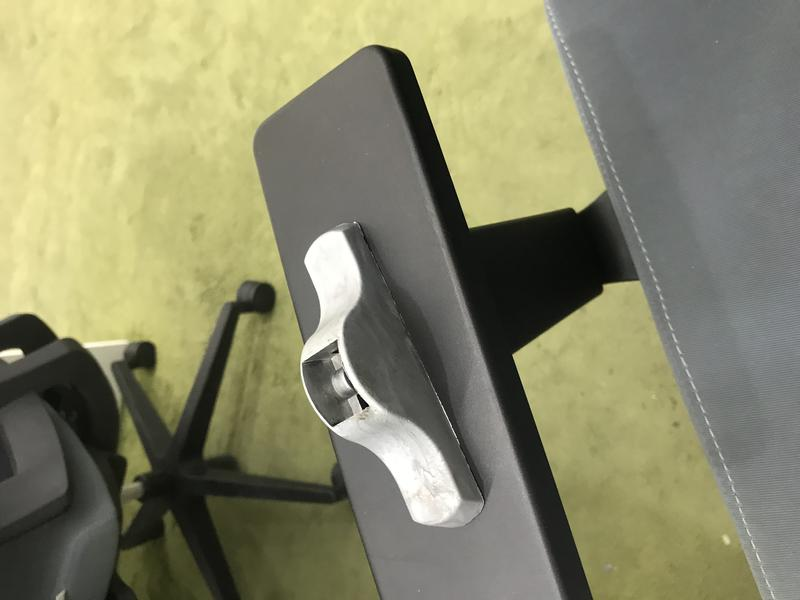zapchast: (284, 223, 494, 538)
